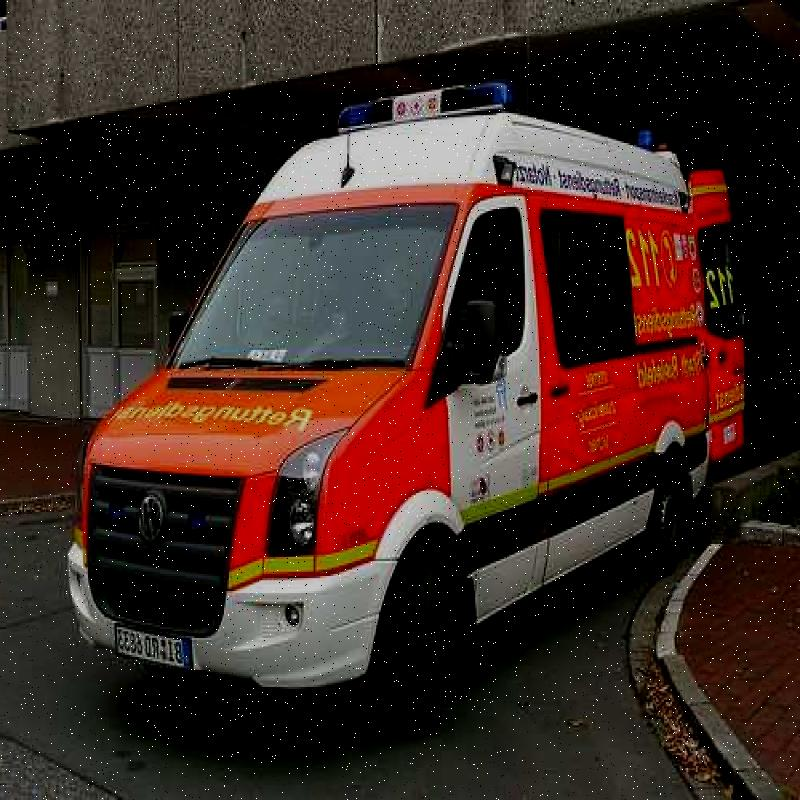AmbulanceSiren: (319, 68, 513, 157)
ambulance: (40, 74, 772, 729)
